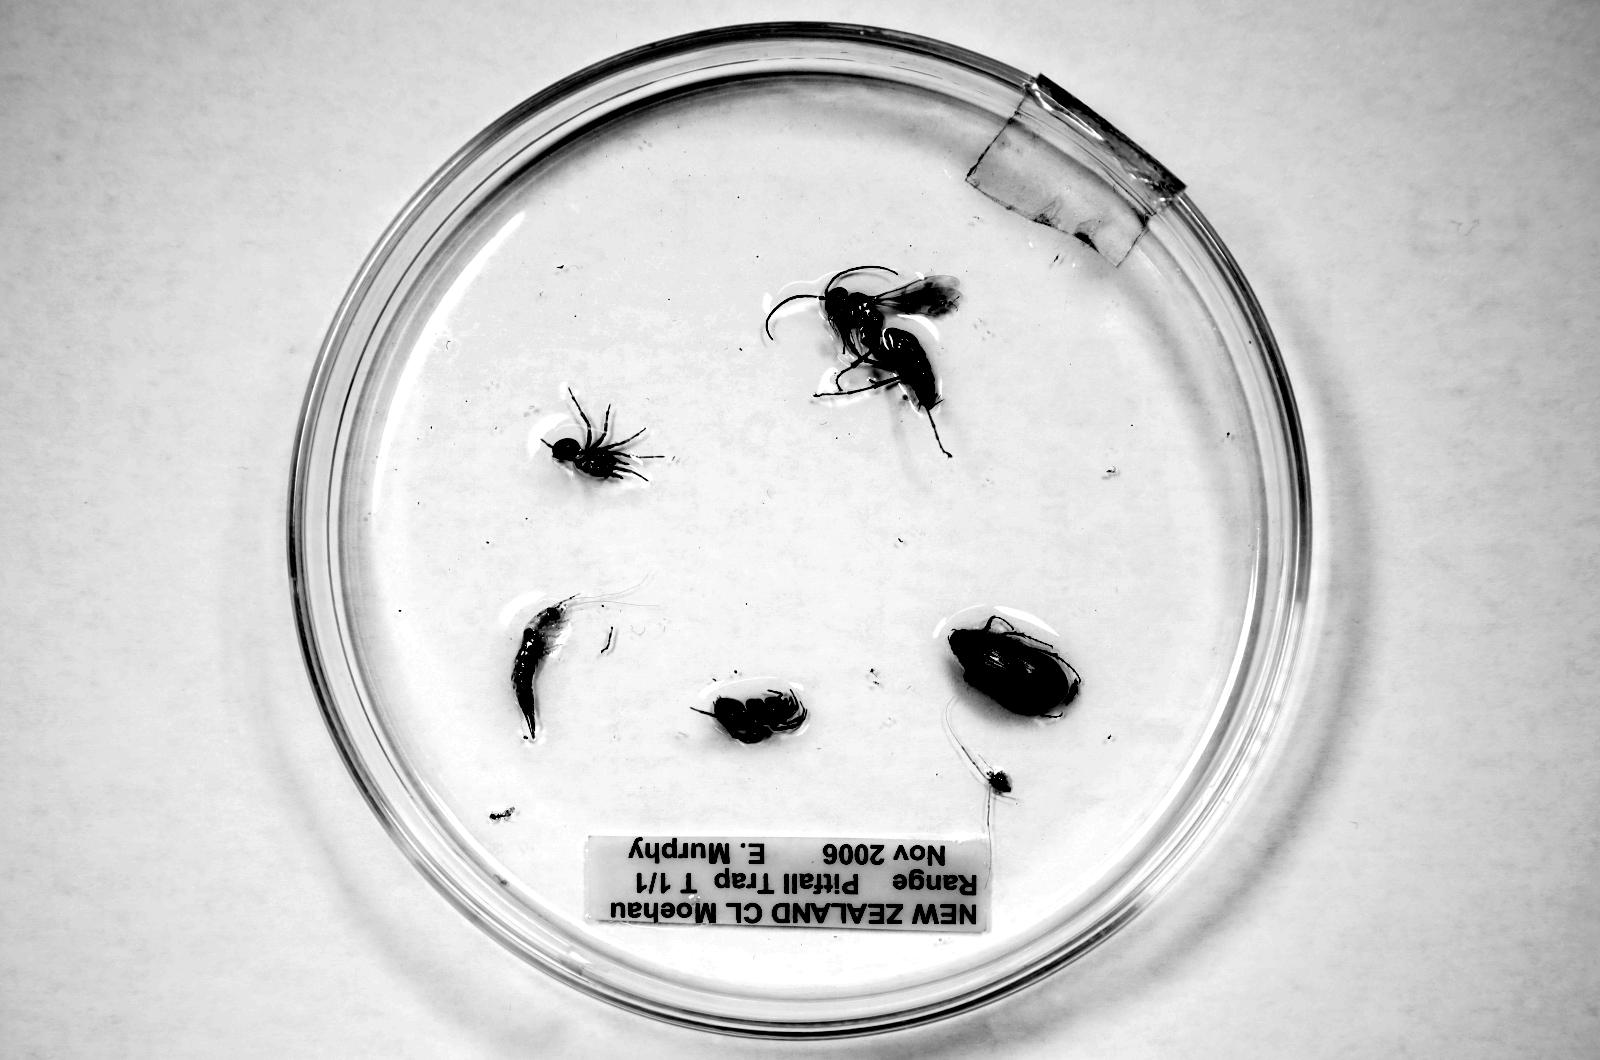amphipoda: (511, 602, 568, 739)
araneae: (694, 689, 807, 742)
coleoptera: (948, 616, 1080, 717)
formicidae: (491, 808, 516, 820)
hymenoptera: (765, 274, 960, 420), (542, 401, 665, 480)
